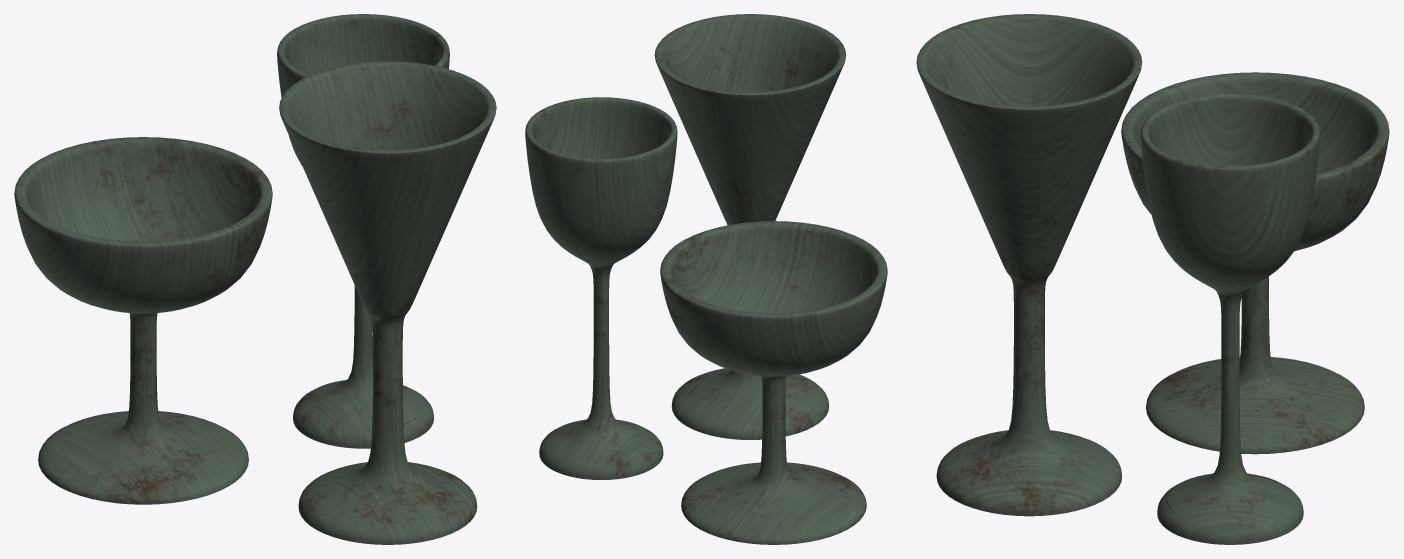
Rendered from Teapots.fbx.
3 views of the same model, side by side, from view 1: azimuth 30°, elevation 25°; view 2: azimuth 150°, elevation 25°; view 3: azimuth 270°, elevation 25° (orthographic). The views are drawn at different scales.
Visible parts, largest first — view 1: Teapots.001; view 2: Teapots.001; view 3: Teapots.001.
Part boxes in pixels (x1=…): Teapots.001: x1=14, y1=14, x2=496, y2=544; Teapots.001: x1=525, y1=14, x2=887, y2=544; Teapots.001: x1=916, y1=14, x2=1389, y2=544.
Bounding box in the file's own units: 57.5 × 55.8 × 57.48.
1 material, 1 textured.
